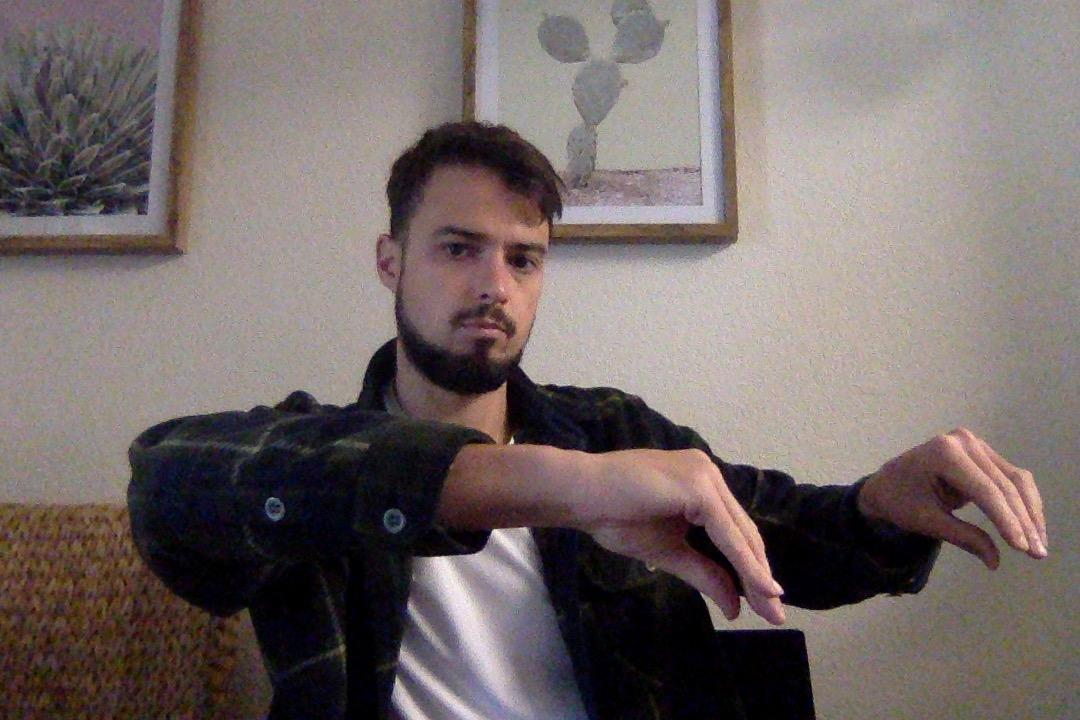Pinched-Fingers: (542, 440, 800, 632), (857, 423, 1060, 567)
